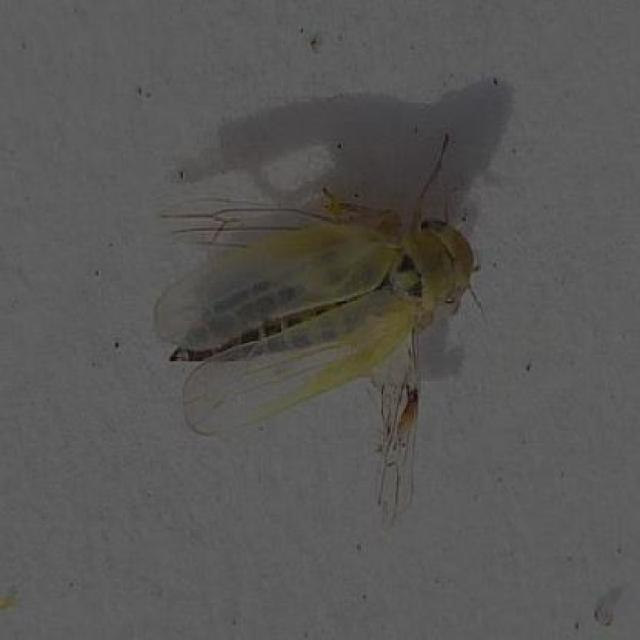green-leafhopper: (157, 187, 474, 436)
